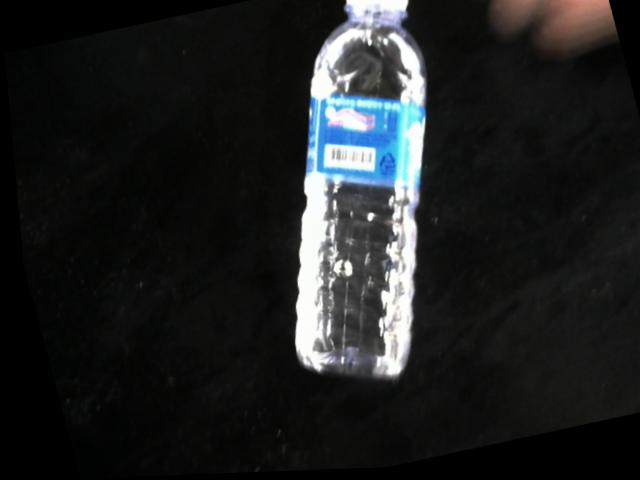bottle: (287, 0, 427, 385)
